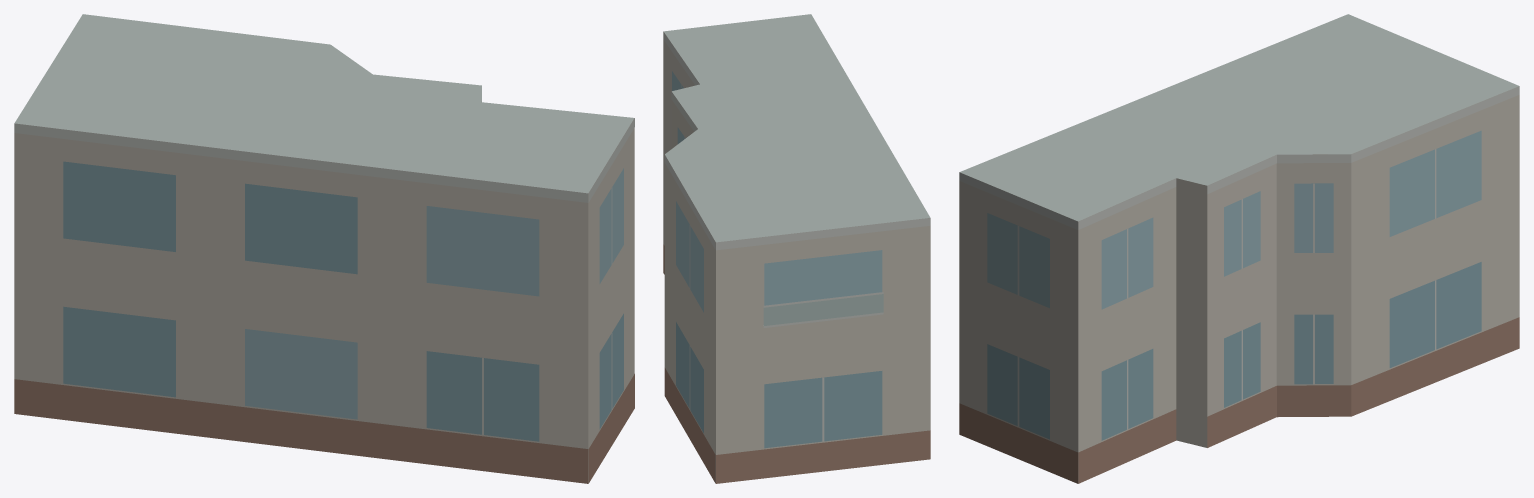
Rendered from survey-upis-32978126.glb.
The picture shows the model from 3 angles, left to right: view 1: azimuth 30°, elevation 25°; view 2: azimuth 150°, elevation 25°; view 3: azimuth 270°, elevation 25°; orthographic projection. The views are drawn at different scales.
Visible parts, largest first — view 1: survey-upis-32978126.tmp; view 2: survey-upis-32978126.tmp; view 3: survey-upis-32978126.tmp.
Boxes of the visible parts, x1,y1,x2,y2 form: survey-upis-32978126.tmp: (14,14,634,483); survey-upis-32978126.tmp: (663,14,930,483); survey-upis-32978126.tmp: (959,14,1519,483).
Size of the model in its own units: 12.56 by 7.4 by 14.33.
